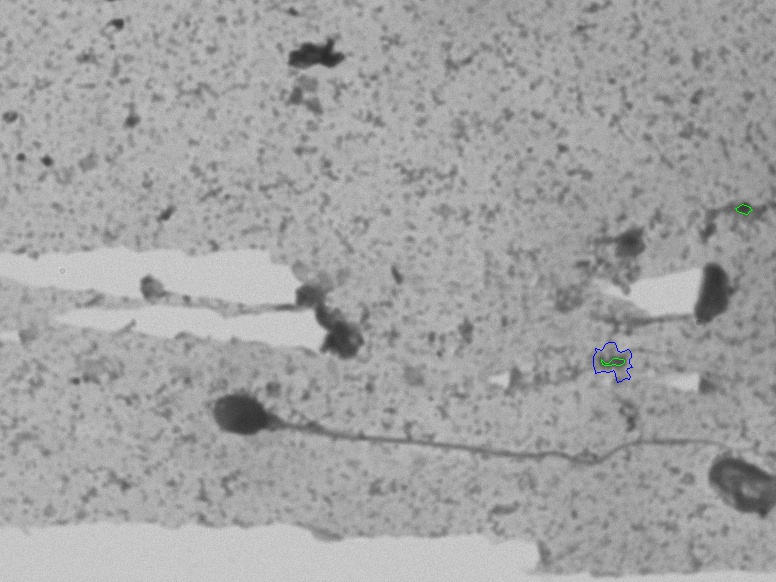Normal: (204, 368, 716, 520)
